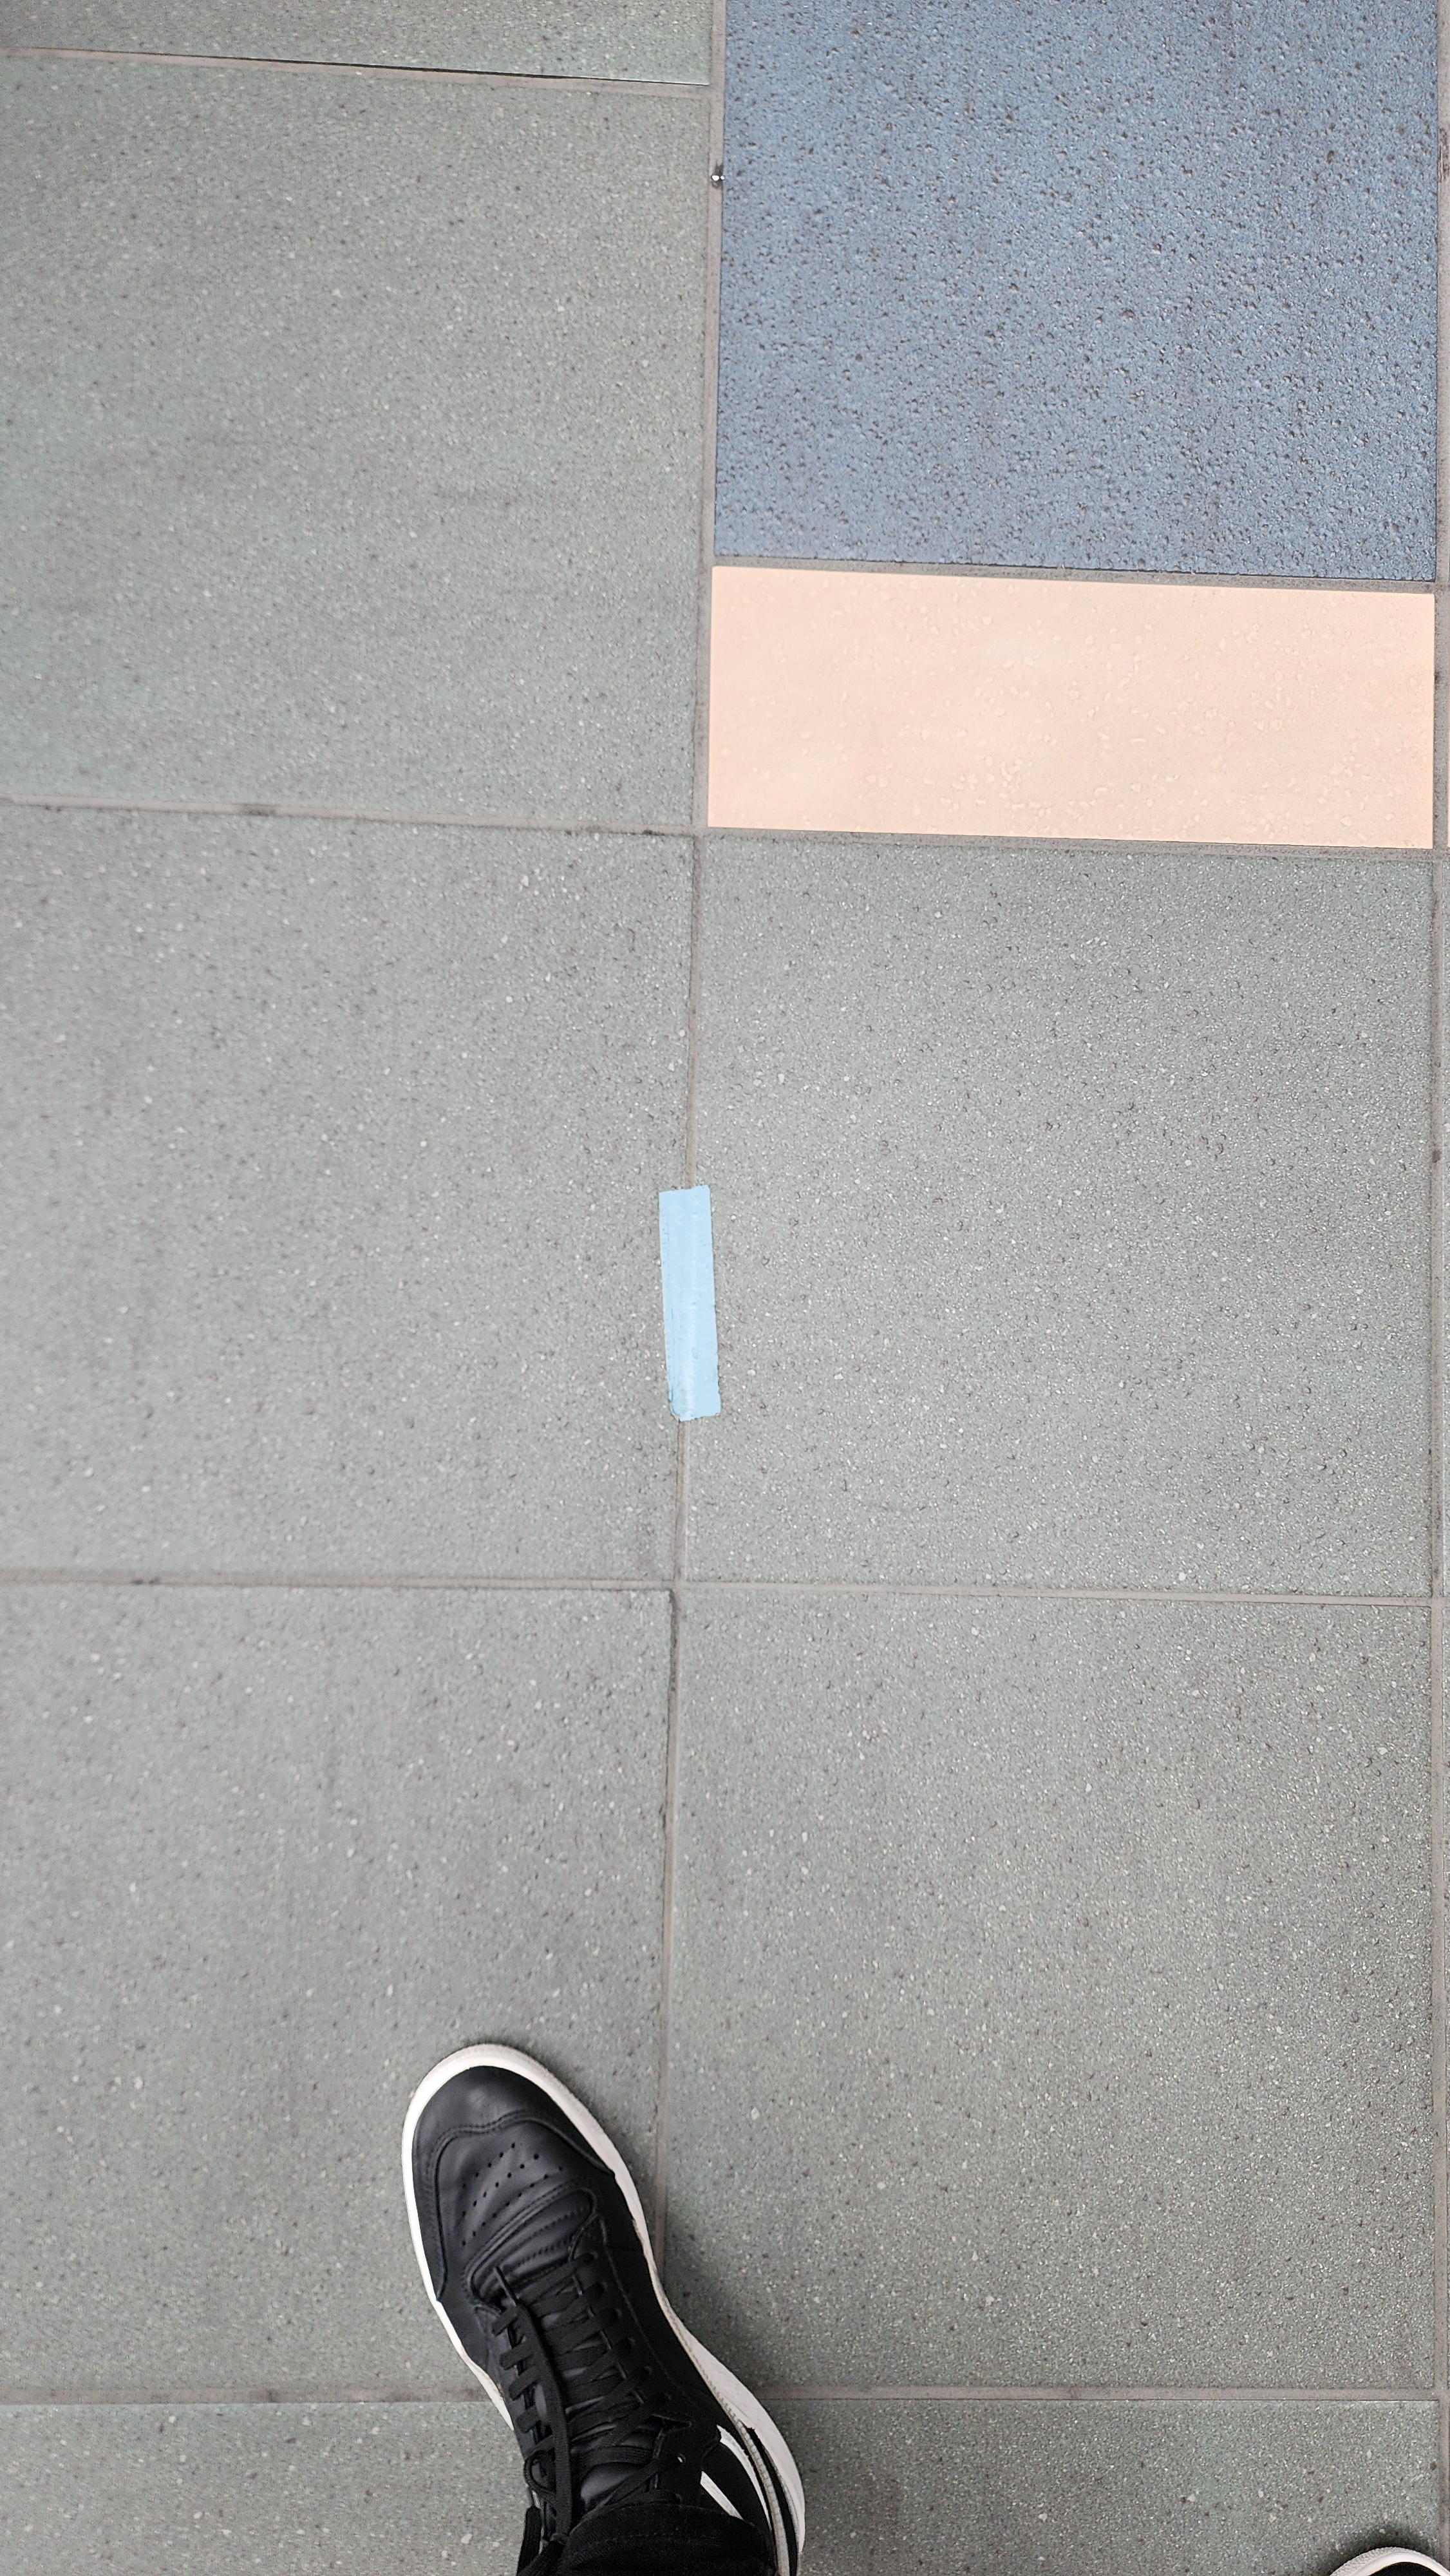Garbage: (642, 1168, 759, 1456)
